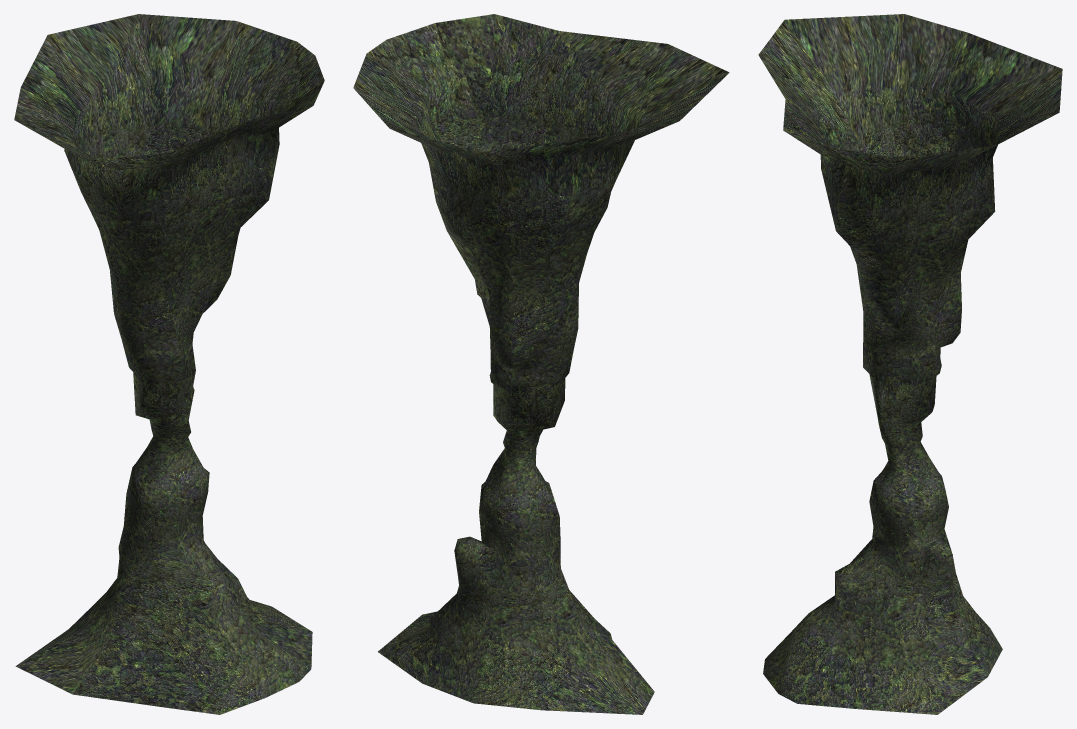
Rendered from dmw_dungeon_pillar_01.fbx.
3 renders of one model, left to right at view 1: azimuth 30°, elevation 25°; view 2: azimuth 150°, elevation 25°; view 3: azimuth 270°, elevation 25°, orthographic. The views are drawn at different scales.
Visible parts, largest first — view 1: dmw_dungeon_pillar_01; view 2: dmw_dungeon_pillar_01; view 3: dmw_dungeon_pillar_01.
Part boxes in pixels (box(x1,y1,x2,y2)): dmw_dungeon_pillar_01: box(14, 14, 324, 714); dmw_dungeon_pillar_01: box(353, 14, 729, 714); dmw_dungeon_pillar_01: box(758, 14, 1062, 714).
Size of the model in its own units: 20.47 by 38.84 by 18.41.
